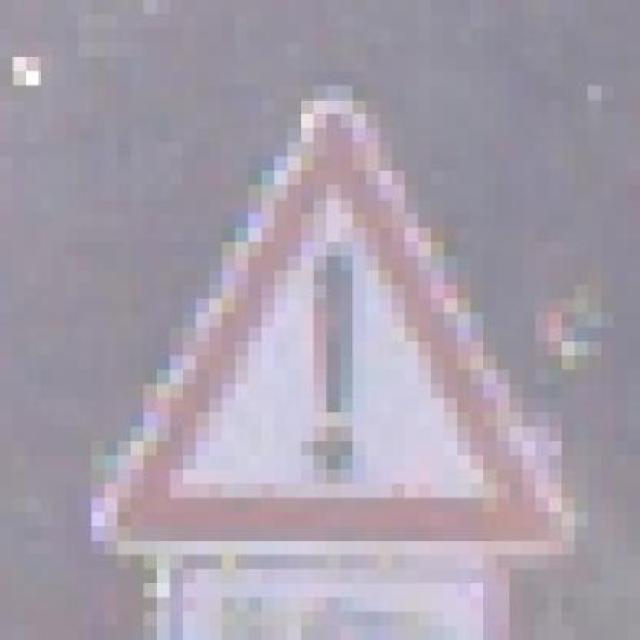Attention Please-: (65, 85, 601, 583)
